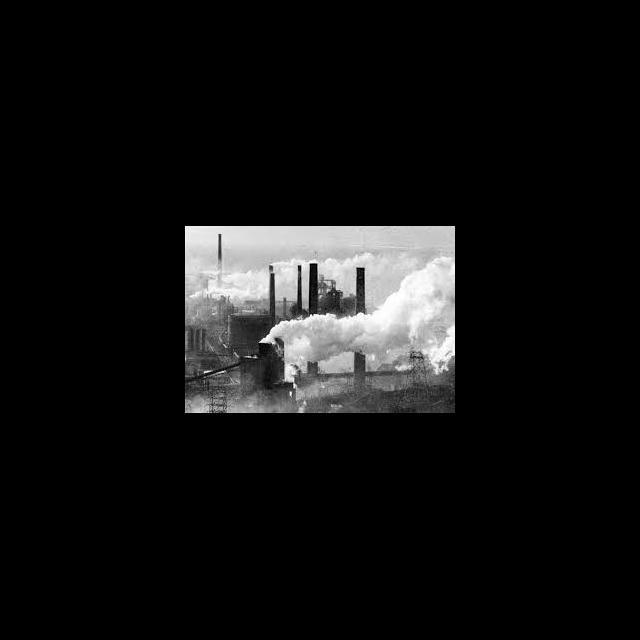Smoke: (270, 255, 455, 367)
